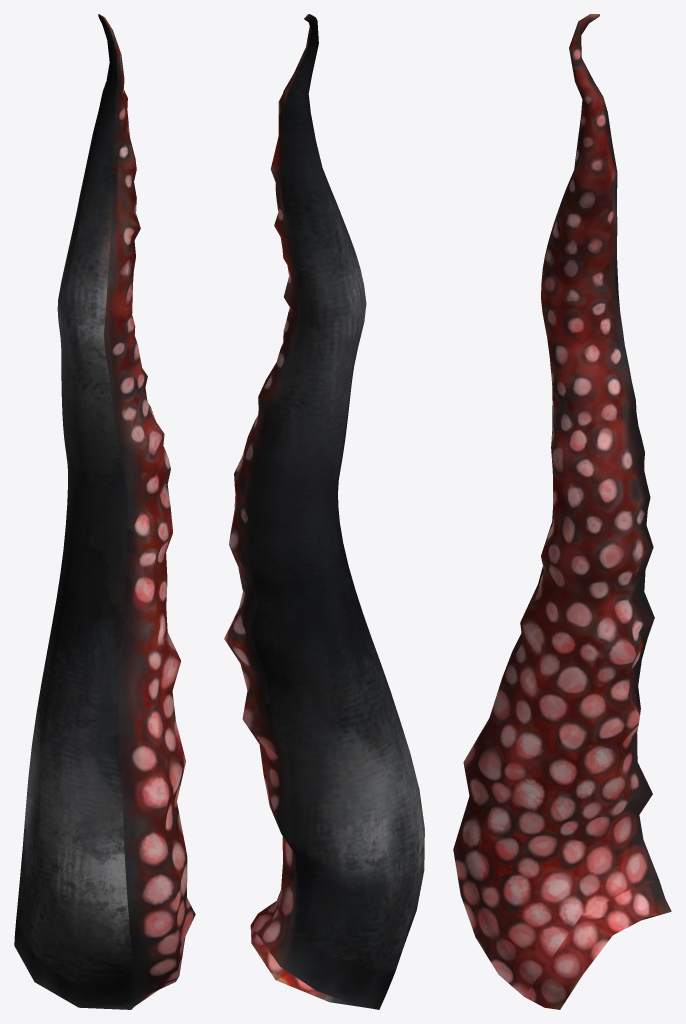
Rendered from aaaaah.fbx.
The picture shows the model from 3 angles, left to right: view 1: azimuth 30°, elevation 25°; view 2: azimuth 150°, elevation 25°; view 3: azimuth 270°, elevation 25°; orthographic projection. The views are drawn at different scales.
Visible parts, largest first — view 1: BézierCurve; view 2: BézierCurve; view 3: BézierCurve.
Boxes of the visible parts, left/top/right/bottom form: BézierCurve: left=14, top=14, right=195, bottom=1009; BézierCurve: left=224, top=14, right=424, bottom=1009; BézierCurve: left=453, top=14, right=671, bottom=1009.
Bounding box in the file's own units: 0.612 × 3.77 × 0.7546.
